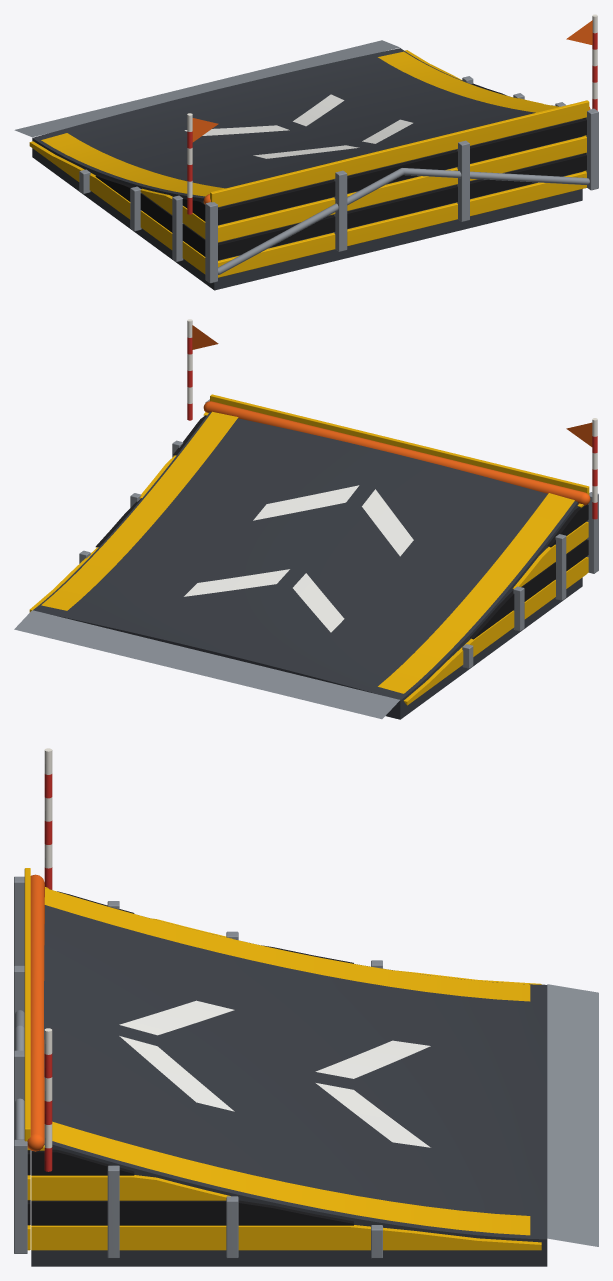
File: yol-rampa-kisa.glb
3 renders of one model, top to bottom at view 1: azimuth 30°, elevation 25°; view 2: azimuth 150°, elevation 25°; view 3: azimuth 270°, elevation 25°, orthographic. The views are drawn at different scales.
Visible parts, largest first — view 1: sac-rampa, sari-ikaz, siyah-ikaz, celik-dikme, sari-boya, beyaz-boya, turuncu-rampa, beyaz-direk, kirmizi-direk; view 2: sac-rampa, sari-boya, celik-dikme, sari-ikaz, beyaz-boya, turuncu-rampa, siyah-ikaz, beyaz-direk, kirmizi-direk; view 3: sac-rampa, celik-dikme, sari-boya, sari-ikaz, siyah-ikaz, beyaz-boya, turuncu-rampa, beyaz-direk, kirmizi-direk.
Boxes of the visible parts, bbox=[...] form: sac-rampa: bbox=[32, 48, 582, 290]; sari-ikaz: bbox=[29, 50, 589, 277]; siyah-ikaz: bbox=[95, 83, 586, 260]; celik-dikme: bbox=[14, 40, 598, 283]; sari-boya: bbox=[41, 51, 559, 196]; beyaz-boya: bbox=[184, 94, 412, 158]; turuncu-rampa: bbox=[192, 20, 592, 204]; beyaz-direk: bbox=[187, 14, 597, 197]; kirmizi-direk: bbox=[187, 32, 597, 214]; sac-rampa: bbox=[33, 412, 582, 719]; sari-boya: bbox=[41, 411, 574, 693]; celik-dikme: bbox=[14, 399, 598, 719]; sari-ikaz: bbox=[29, 394, 589, 705]; beyaz-boya: bbox=[184, 485, 413, 632]; turuncu-rampa: bbox=[192, 325, 592, 505]; siyah-ikaz: bbox=[95, 415, 588, 639]; beyaz-direk: bbox=[187, 319, 597, 502]; kirmizi-direk: bbox=[187, 337, 597, 519]; sac-rampa: bbox=[31, 899, 547, 1266]; celik-dikme: bbox=[14, 876, 598, 1258]; sari-boya: bbox=[44, 888, 530, 1235]; sari-ikaz: bbox=[24, 868, 541, 1250]; siyah-ikaz: bbox=[27, 891, 353, 1225]; beyaz-boya: bbox=[119, 1000, 430, 1147]; turuncu-rampa: bbox=[27, 874, 44, 1151]; beyaz-direk: bbox=[44, 748, 52, 1148]; kirmizi-direk: bbox=[44, 774, 52, 1171].
Bounding box in the file's own units: 7.79 × 3.2 × 6.8.
